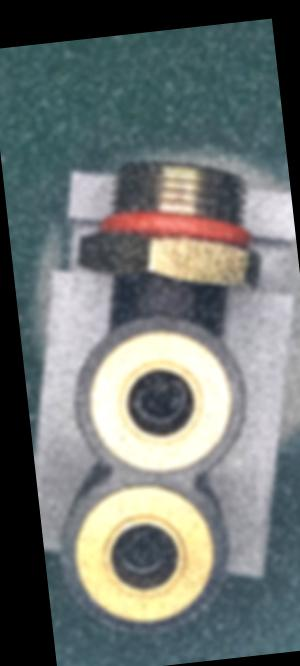joint line: (162, 273, 179, 313)
off-centered: (108, 519, 177, 581), (126, 370, 193, 430)
